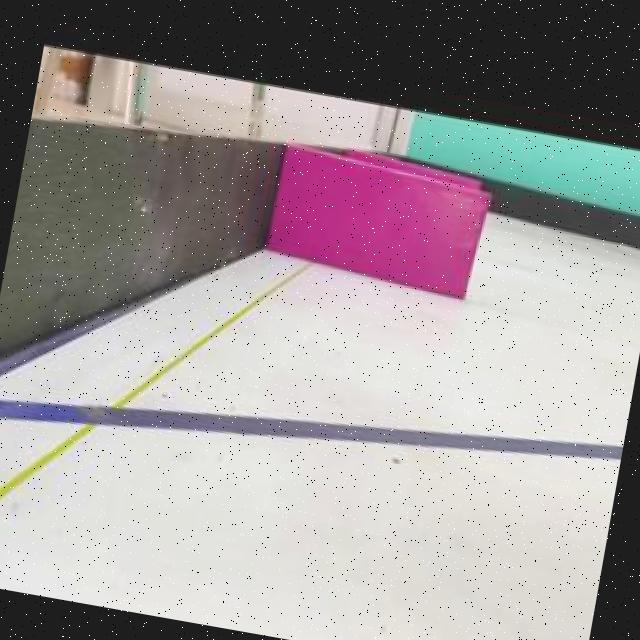xparking: (274, 144, 484, 303)
